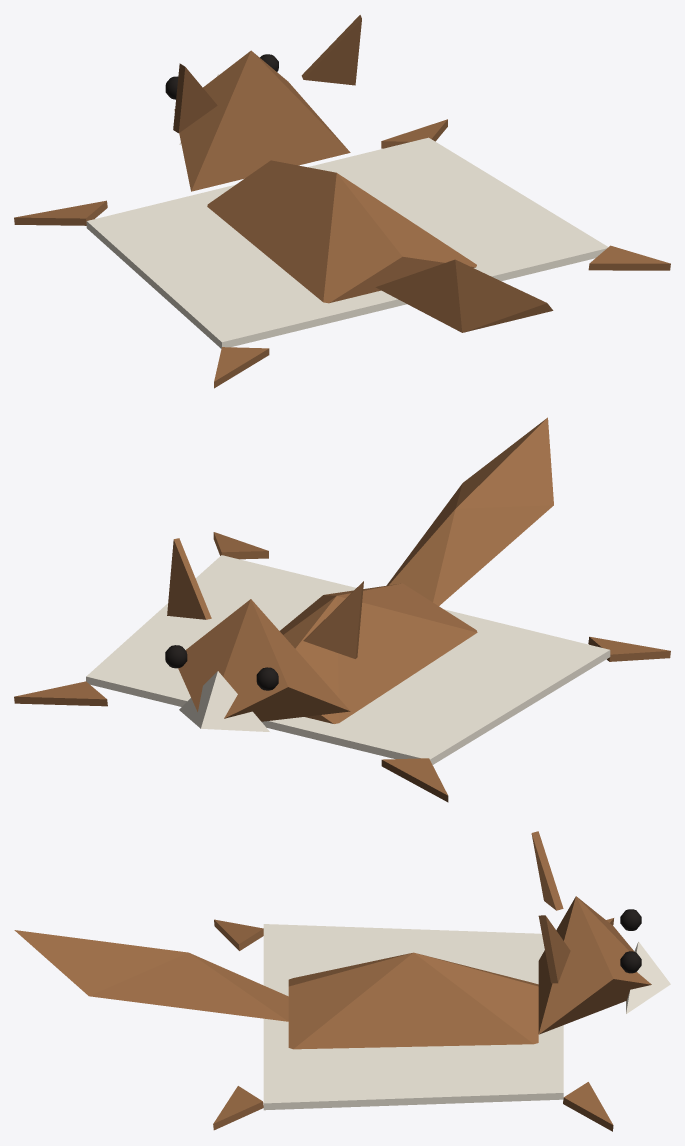
File: perch_squirrel.glb
The picture shows the model from 3 angles, top to bottom: view 1: azimuth 30°, elevation 25°; view 2: azimuth 150°, elevation 25°; view 3: azimuth 270°, elevation 25°; orthographic projection. The views are drawn at different scales.
Visible parts, largest first — view 1: body, head, tail; view 2: body, head, tail; view 3: body, head, tail.
Boxes of the visible parts, x1,y1,x2,y2 form: body: (14, 119, 670, 388); head: (165, 15, 361, 191); tail: (375, 259, 553, 332); body: (14, 532, 670, 802); head: (165, 538, 363, 731); tail: (386, 417, 553, 605); body: (213, 918, 613, 1131); head: (531, 831, 670, 1034); tail: (14, 930, 288, 1021).
Size of the model in its own units: 0.3003 by 0.1057 by 0.3945.
